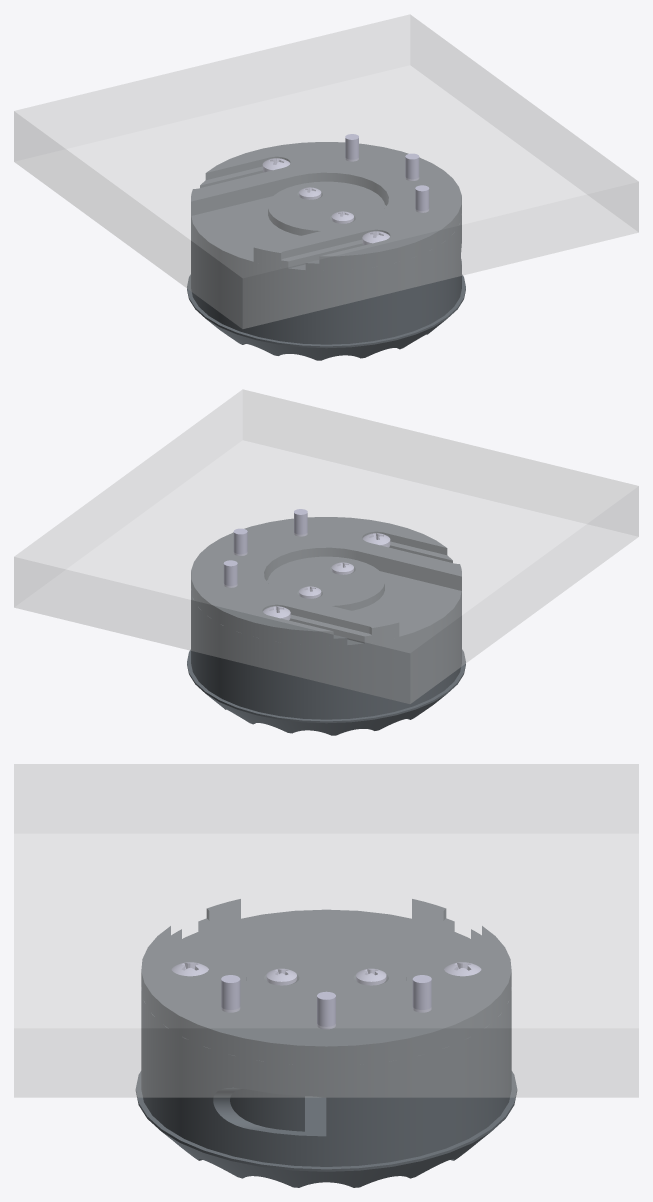
Rendered from winder.glb.
The picture shows the model from 3 angles, top to bottom: view 1: azimuth 30°, elevation 25°; view 2: azimuth 150°, elevation 25°; view 3: azimuth 270°, elevation 25°; orthographic projection. The views are drawn at different scales.
Visible parts, largest first — view 1: Plane, still, mounter, spinning_hook, spinning; view 2: Plane, still, mounter, spinning_hook, spinning; view 3: Plane, still, mounter, spinning, spinning_hook, (M3.5)x8-Screw015, (M3.5)x8-Screw016, (M3.5)x8-Screw.
Part boxes in pixels (left/top/right/bottom): Plane: left=14, top=14, right=638, bottom=328; still: left=191, top=196, right=461, bottom=344; mounter: left=191, top=142, right=461, bottom=270; spinning_hook: left=268, top=181, right=384, bottom=235; spinning: left=187, top=274, right=465, bottom=360; Plane: left=14, top=389, right=638, bottom=703; still: left=191, top=571, right=461, bottom=719; mounter: left=191, top=517, right=461, bottom=645; spinning_hook: left=268, top=556, right=384, bottom=610; spinning: left=187, top=649, right=465, bottom=735; Plane: left=14, top=764, right=638, bottom=1097; still: left=141, top=909, right=511, bottom=1166; mounter: left=141, top=899, right=511, bottom=1066; spinning: left=135, top=1071, right=517, bottom=1187; spinning_hook: left=246, top=944, right=406, bottom=1003; (M3.5)x8-Screw015: left=412, top=975, right=431, bottom=1012; (M3.5)x8-Screw016: left=221, top=975, right=240, bottom=1012; (M3.5)x8-Screw: left=317, top=991, right=335, bottom=1029.
Size of the model in its own units: 0.1147 by 0.046 by 0.1147.
